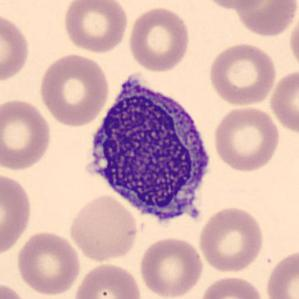Monocyte: (76, 70, 218, 233)
RBC: (36, 51, 110, 128), (67, 193, 140, 263), (197, 204, 266, 274), (212, 104, 282, 173), (207, 41, 278, 108), (14, 229, 82, 297), (126, 5, 192, 73), (137, 234, 205, 299), (0, 97, 54, 172), (60, 0, 130, 54), (0, 170, 34, 258), (71, 261, 144, 299), (233, 0, 298, 38), (0, 11, 32, 85), (267, 67, 299, 135), (263, 247, 299, 299), (196, 273, 266, 299), (286, 11, 299, 72), (199, 0, 270, 11), (0, 280, 30, 299)
